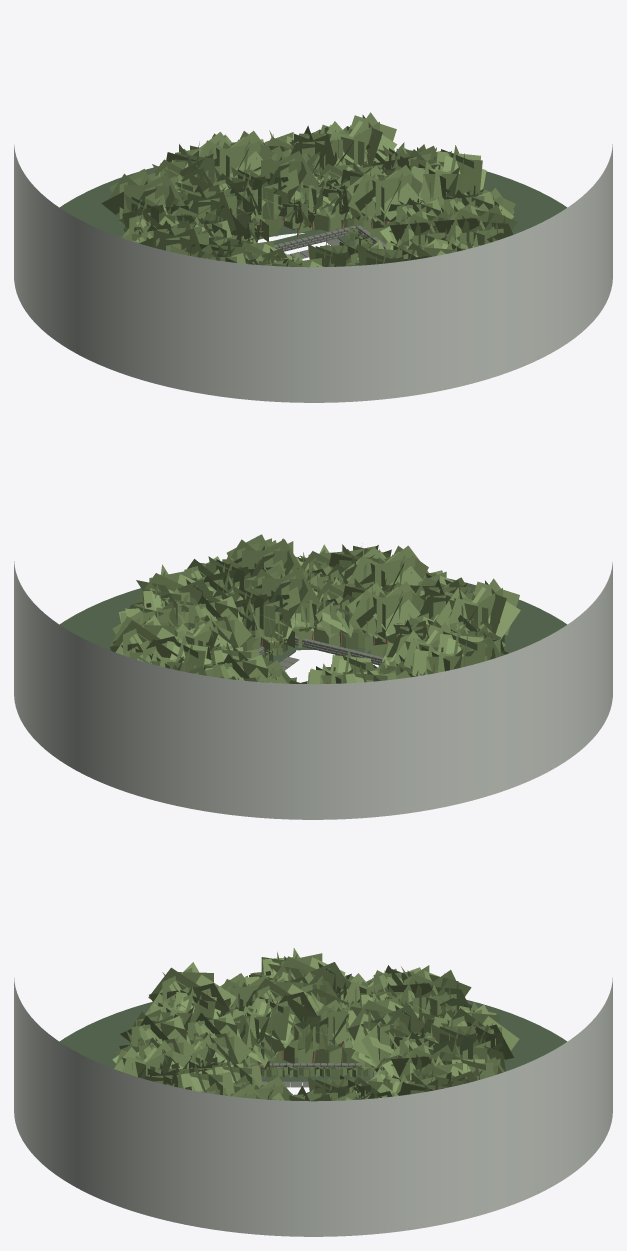
File: courtyard-v3.glb
The picture shows the model from 3 angles, top to bottom: view 1: azimuth 30°, elevation 25°; view 2: azimuth 150°, elevation 25°; view 3: azimuth 270°, elevation 25°; orthographic projection.
Visible parts, largest first — view 1: Continuous woodland beyond the garden, Ground beyond the planting borders, Leaf canopy (×5); view 2: Continuous woodland beyond the garden, Ground beyond the planting borders, Leaf canopy (×6); view 3: Continuous woodland beyond the garden, Ground beyond the planting borders.
Boxes of the visible parts, left/top/right/bottom form: Continuous woodland beyond the garden: left=14, top=144, right=612, bottom=402; Ground beyond the planting borders: left=59, top=167, right=567, bottom=239; Leaf canopy (×5): left=219, top=142, right=468, bottom=223; Continuous woodland beyond the garden: left=14, top=561, right=612, bottom=819; Ground beyond the planting borders: left=59, top=578, right=567, bottom=654; Leaf canopy (×6): left=242, top=550, right=520, bottom=639; Continuous woodland beyond the garden: left=14, top=978, right=612, bottom=1236; Ground beyond the planting borders: left=59, top=999, right=567, bottom=1071.
Size of the model in its own units: 48 by 12 by 48.
